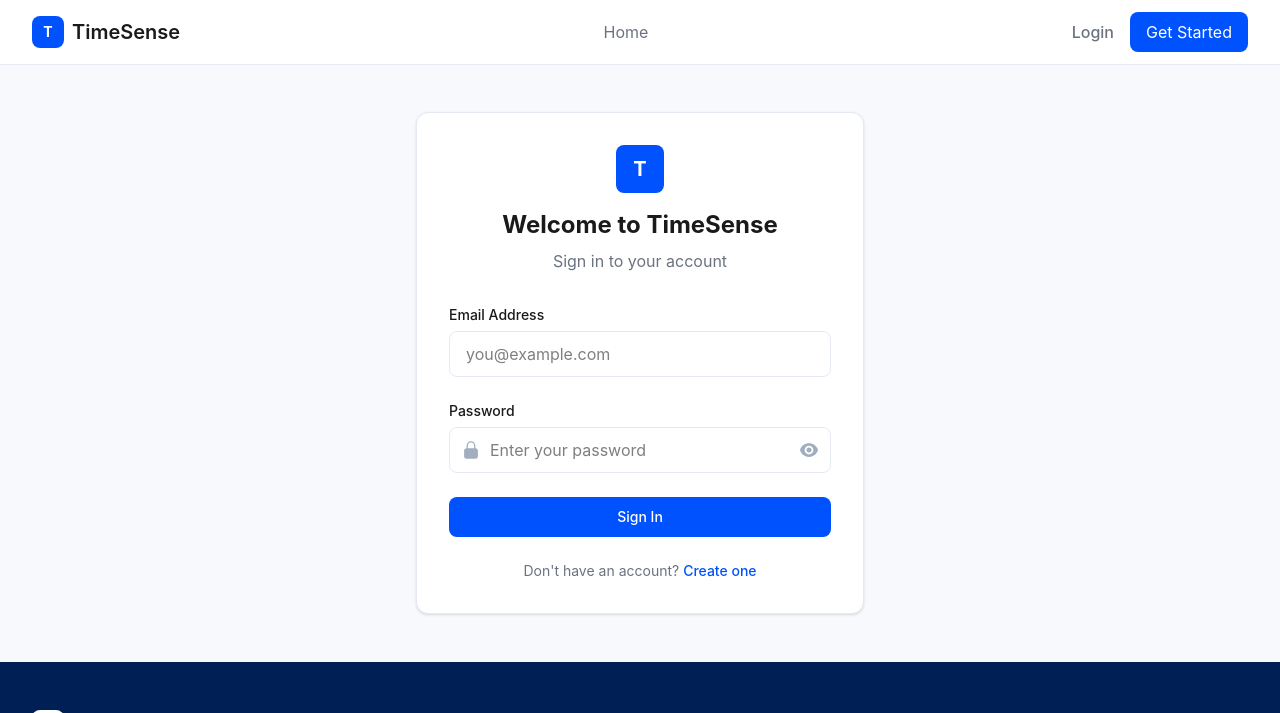
Test: Login Page › Form Validation › should show error when password is empty
Type "test@example.com" into the field with test id "email-input" at (640, 354), box top-left (449, 331), bottom-right (831, 377)
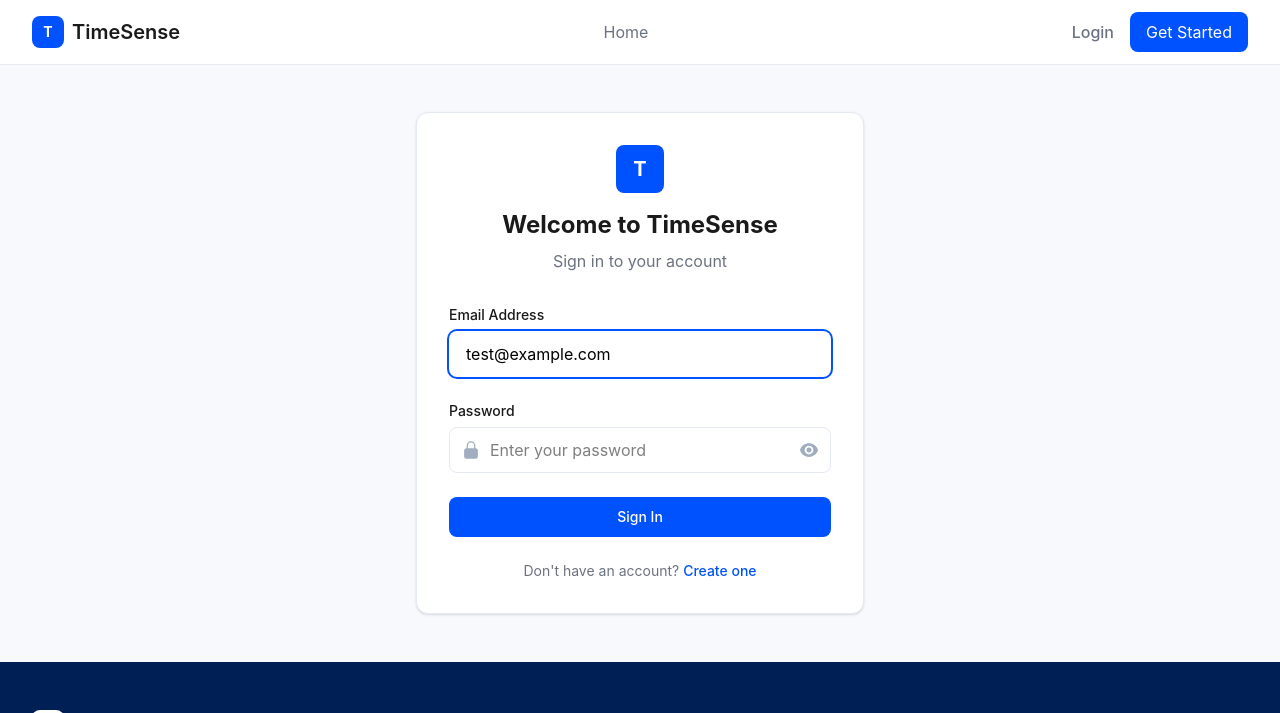
Click the button with test id "login-button" at (640, 517), box top-left (449, 497), bottom-right (831, 537)
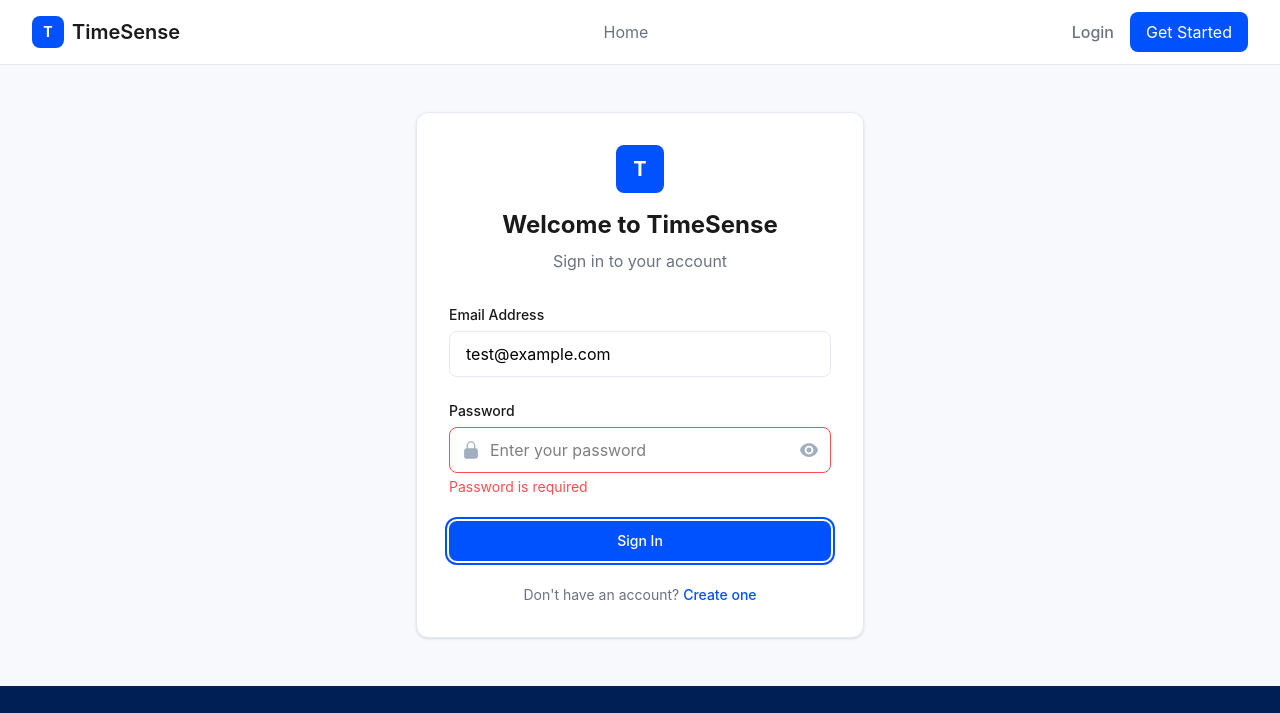
Expected: the text with test id "password-error" reads "Password is required", top-left (449, 478), bottom-right (588, 495)
